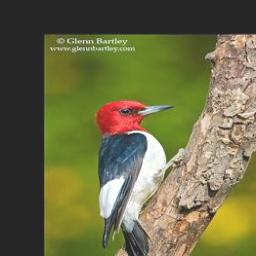Woodpecker: (89, 101, 192, 256)
